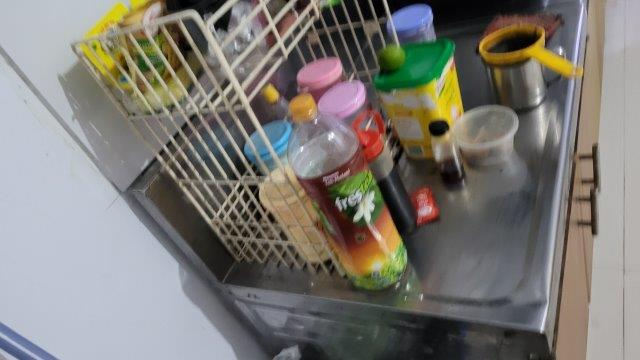botolplastik: (287, 93, 408, 291)
